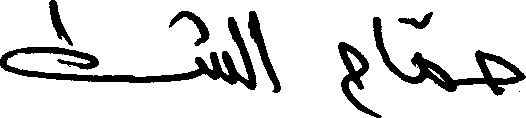ا: (254, 10, 281, 93), (371, 14, 392, 80)
ح: (472, 48, 524, 96)
ش: (159, 13, 234, 85)
ط: (0, 0, 99, 83)
ل: (232, 9, 255, 90)
م: (335, 39, 369, 115), (408, 50, 454, 92)
